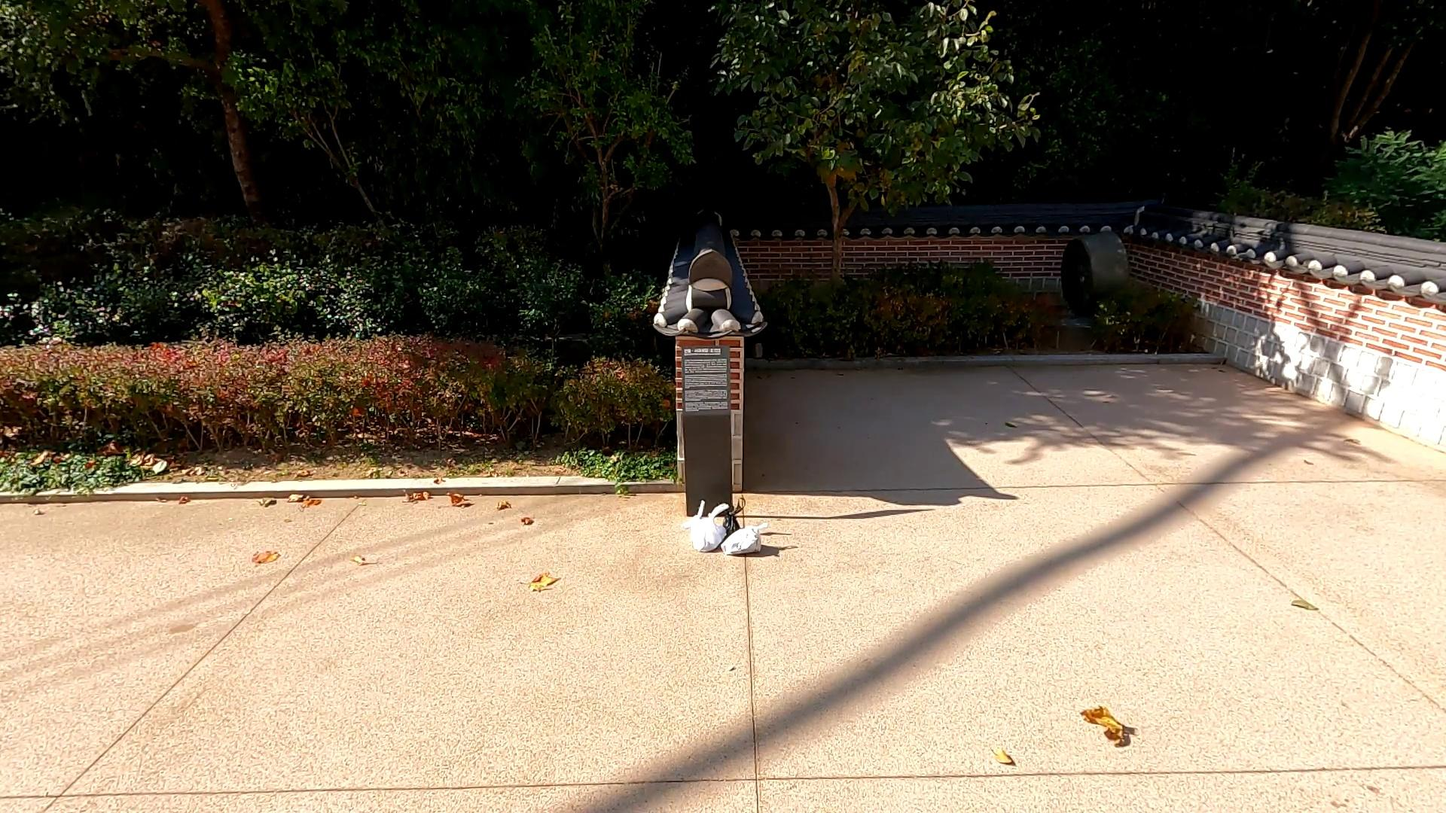trash: (676, 492, 728, 553), (711, 495, 753, 546), (717, 521, 776, 556)
